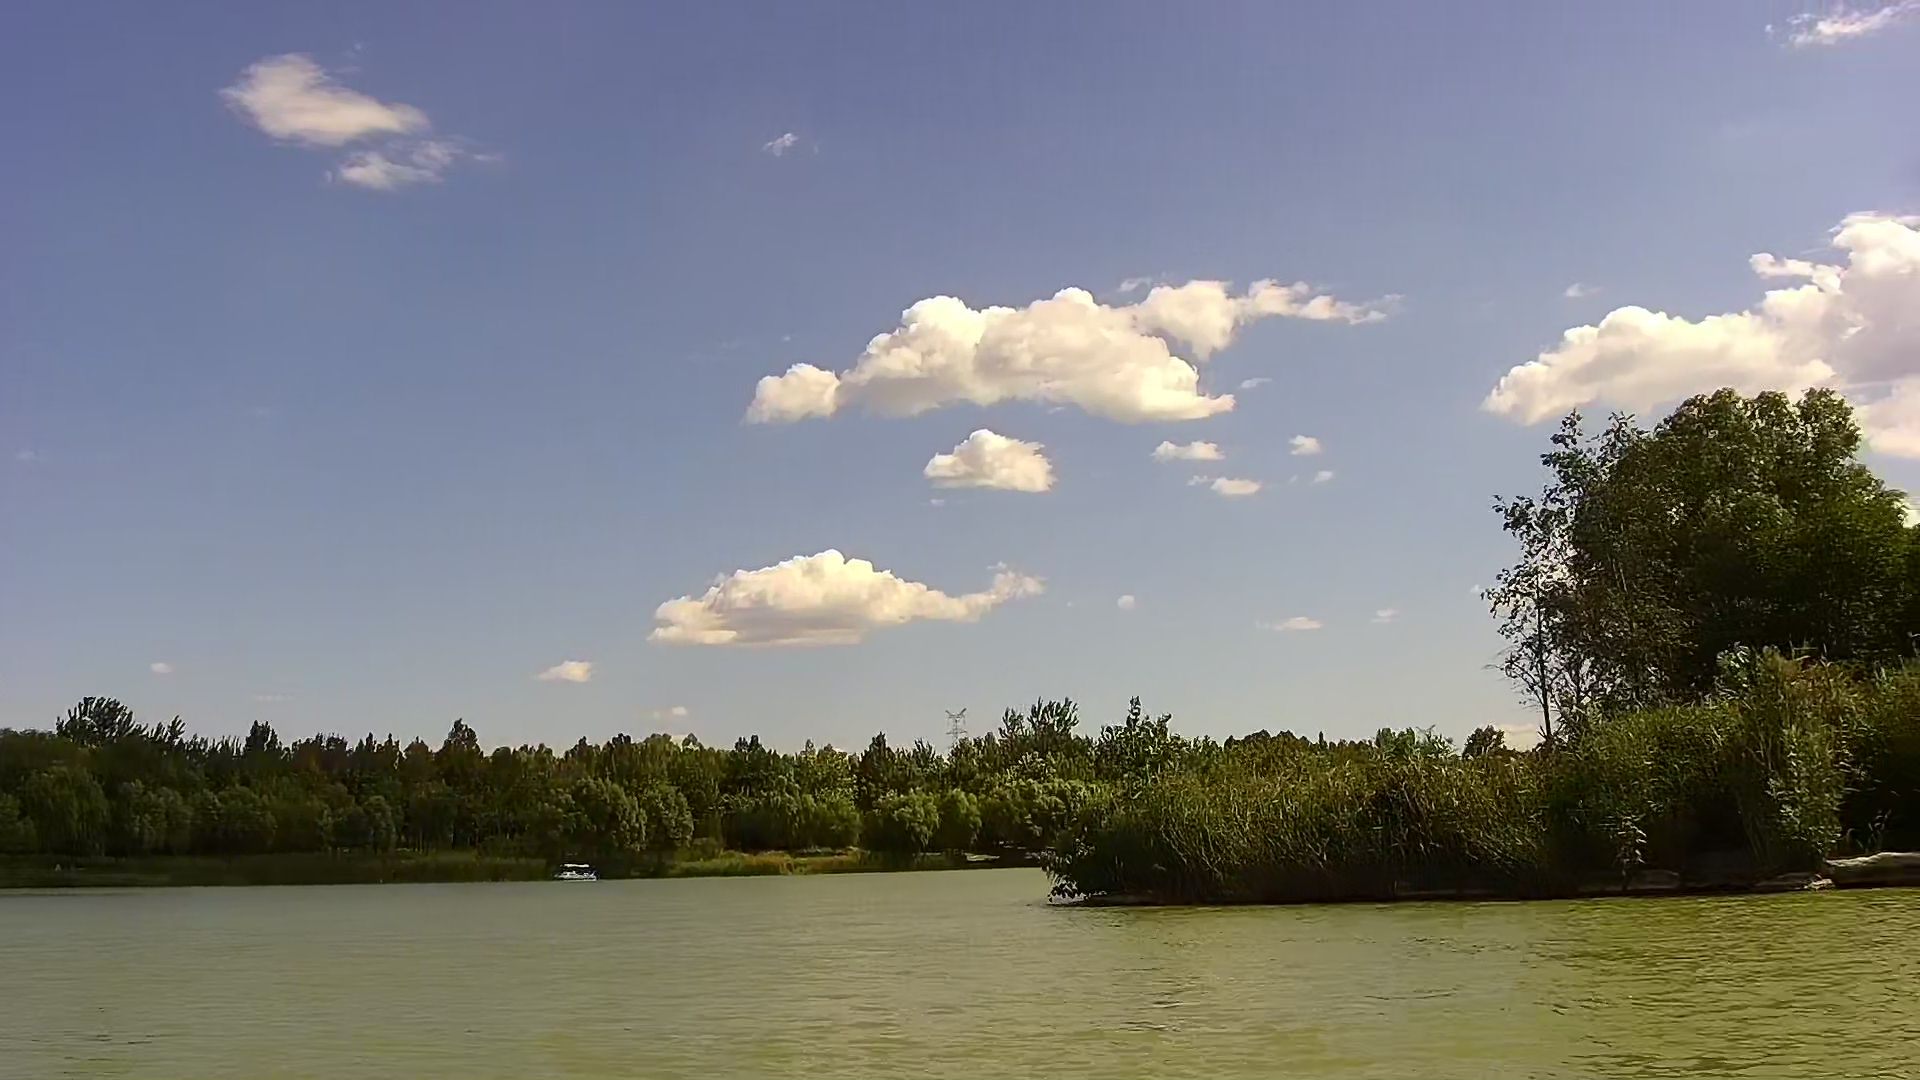boat: (549, 858, 593, 884)
